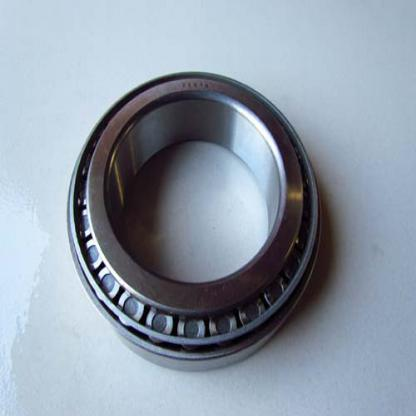FOD: (64, 69, 327, 375)
